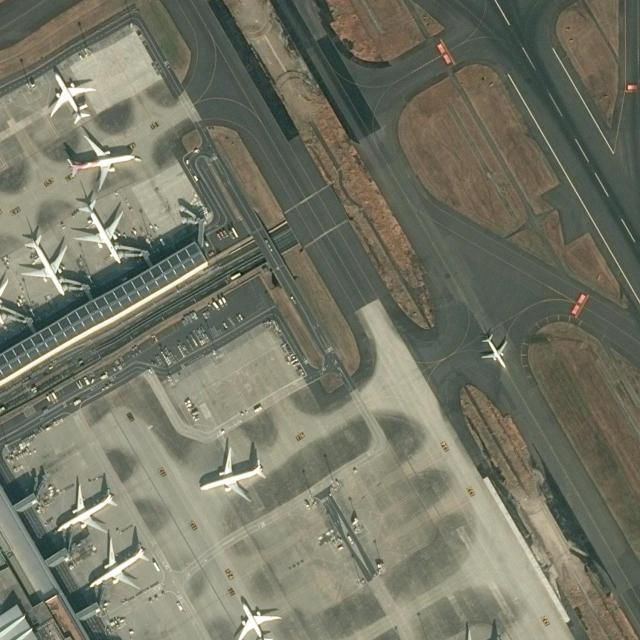Aircraft: (61, 130, 137, 186), (71, 196, 127, 264), (200, 443, 266, 497), (88, 537, 151, 593), (53, 479, 113, 535), (17, 235, 69, 296), (45, 69, 93, 123), (230, 596, 278, 640), (480, 333, 508, 368)
